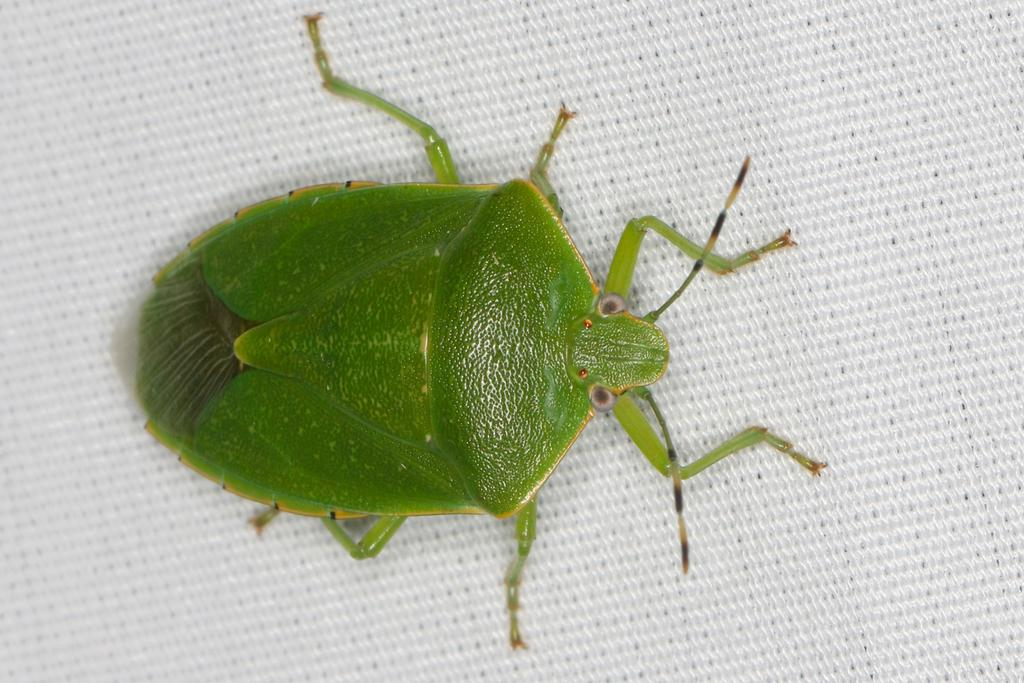stink_bugs: (53, 0, 897, 677)
